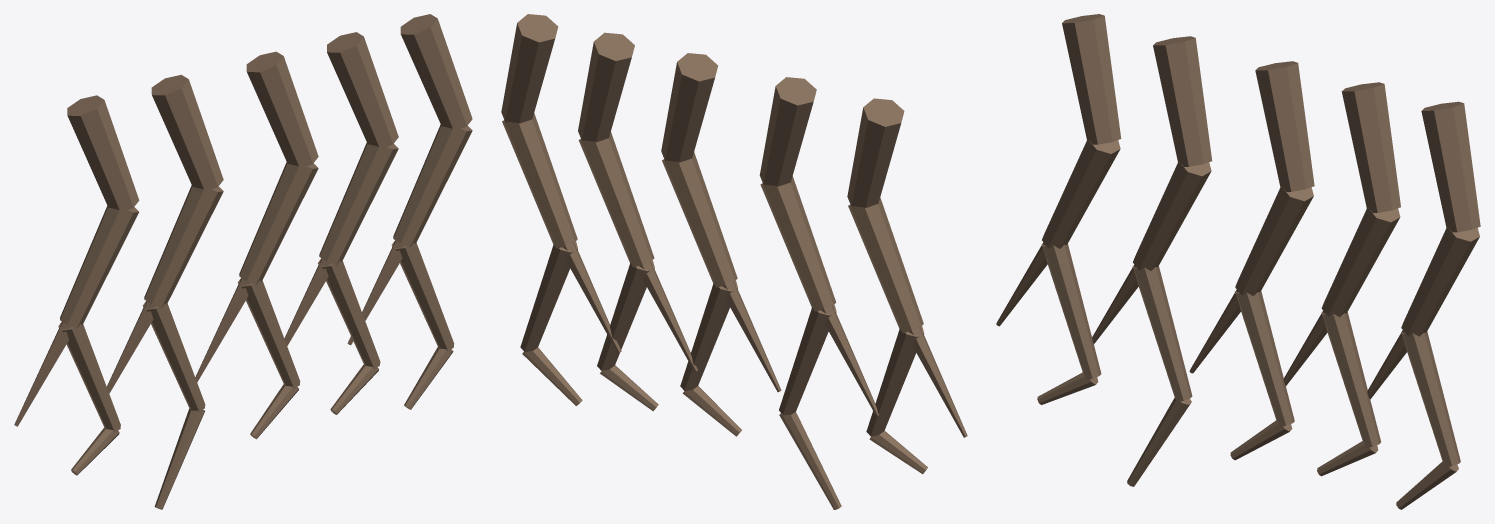
File: cave_detail_roots.glb
3 renders of one model, left to right at view 1: azimuth 30°, elevation 25°; view 2: azimuth 150°, elevation 25°; view 3: azimuth 330°, elevation 25°, orthographic. The views are drawn at different scales.
Visible parts, largest first — view 1: Tapered hanging root.004, Tapered hanging root.008, Tapered hanging root, Tapered hanging root.012, Tapered hanging root.016, Tapered hanging root.013, Tapered hanging root.017, Tapered hanging root.009, Tapered hanging root.005, Tapered hanging root.001, Tapered hanging root.006, Tapered hanging root.010 (+13 smaller); view 2: Tapered hanging root.004, Tapered hanging root, Tapered hanging root.012, Tapered hanging root.016, Tapered hanging root.008, Tapered hanging root.001, Tapered hanging root.013, Tapered hanging root.017, Tapered hanging root.009, Tapered hanging root.005, Tapered hanging root.006, Tapered hanging root.018 (+13 smaller); view 3: Tapered hanging root.012, Tapered hanging root.004, Tapered hanging root.008, Tapered hanging root, Tapered hanging root.016, Tapered hanging root.001, Tapered hanging root.013, Tapered hanging root.009, Tapered hanging root.017, Tapered hanging root.005, Tapered hanging root.006, Tapered hanging root.018 (+13 smaller).
Boxes of the visible parts, bbox=[...] form: Tapered hanging root.004: bbox=[151, 74, 223, 189]; Tapered hanging root.008: bbox=[246, 51, 318, 166]; Tapered hanging root: bbox=[67, 95, 139, 210]; Tapered hanging root.012: bbox=[327, 32, 398, 146]; Tapered hanging root.016: bbox=[400, 14, 472, 128]; Tapered hanging root.013: bbox=[319, 142, 398, 265]; Tapered hanging root.017: bbox=[393, 124, 472, 247]; Tapered hanging root.009: bbox=[239, 162, 318, 284]; Tapered hanging root.005: bbox=[144, 185, 223, 307]; Tapered hanging root.001: bbox=[60, 206, 138, 328]; Tapered hanging root.006: bbox=[142, 301, 205, 411]; Tapered hanging root.010: bbox=[237, 278, 300, 388]; Tapered hanging root.004: bbox=[759, 77, 816, 186]; Tapered hanging root: bbox=[847, 98, 904, 207]; Tapered hanging root.012: bbox=[578, 32, 634, 142]; Tapered hanging root.016: bbox=[501, 14, 558, 123]; Tapered hanging root.008: bbox=[661, 53, 718, 162]; Tapered hanging root.001: bbox=[848, 197, 923, 332]; Tapered hanging root.013: bbox=[578, 132, 654, 267]; Tapered hanging root.017: bbox=[502, 113, 577, 248]; Tapered hanging root.009: bbox=[662, 152, 737, 287]; Tapered hanging root.005: bbox=[760, 176, 836, 311]; Tapered hanging root.006: bbox=[779, 304, 836, 415]; Tapered hanging root.018: bbox=[520, 241, 577, 352]; Tapered hanging root.012: bbox=[1341, 82, 1400, 212]; Tapered hanging root.004: bbox=[1153, 36, 1212, 166]; Tapered hanging root.008: bbox=[1255, 61, 1314, 191]; Tapered hanging root: bbox=[1062, 14, 1121, 144]; Tapered hanging root.016: bbox=[1421, 101, 1480, 232]; Tapered hanging root.001: bbox=[1042, 139, 1120, 248]; Tapered hanging root.013: bbox=[1321, 207, 1400, 317]; Tapered hanging root.009: bbox=[1235, 186, 1313, 295]; Tapered hanging root.017: bbox=[1401, 227, 1479, 336]; Tapered hanging root.005: bbox=[1133, 161, 1211, 270]; Tapered hanging root.006: bbox=[1132, 266, 1192, 401]; Tapered hanging root.018: bbox=[1401, 331, 1460, 467].
Size of the model in its own units: 2.14 by 1.88 by 0.2283.
